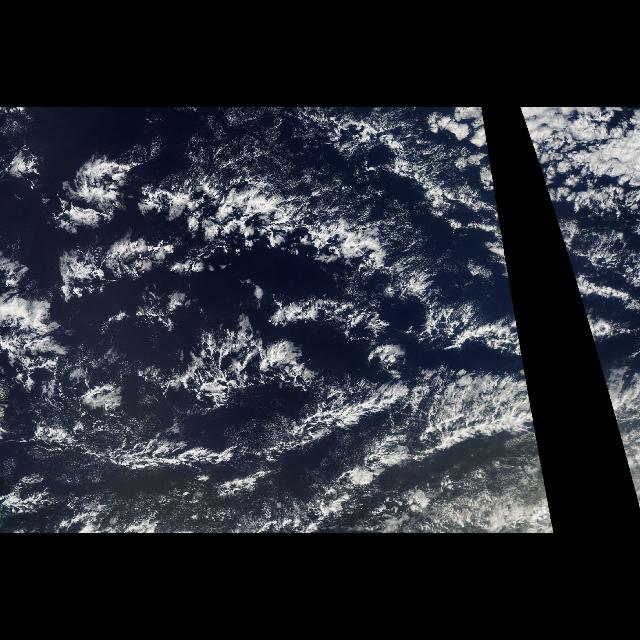Fish: (26, 330, 554, 528), (49, 141, 457, 313)
